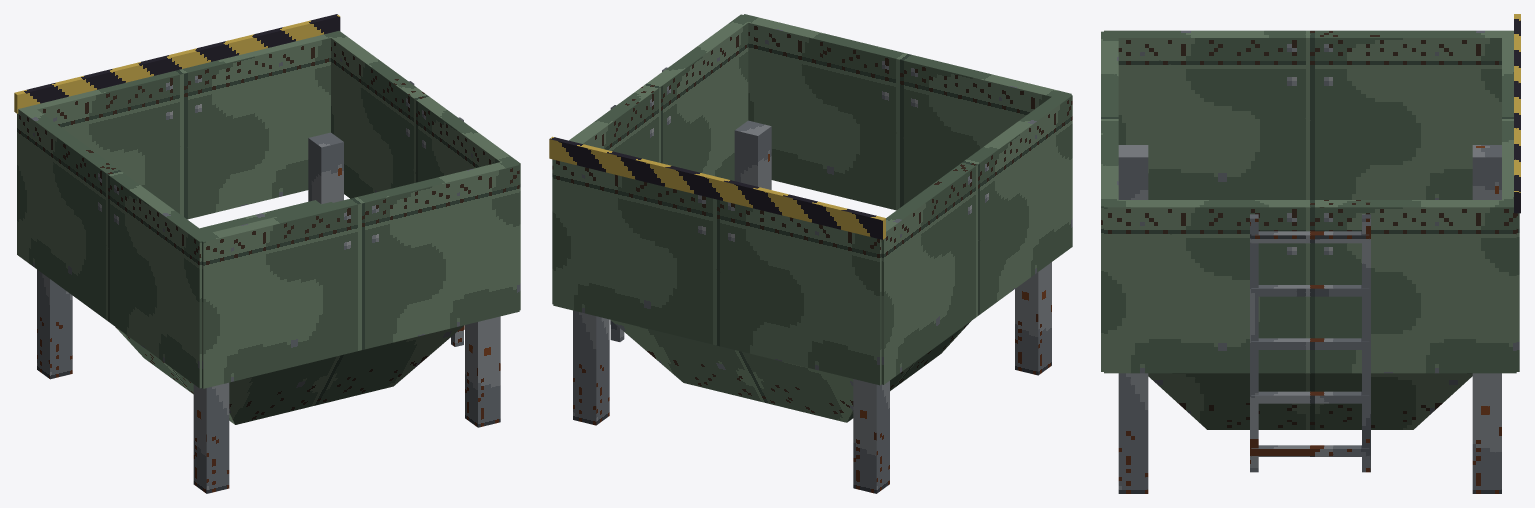
File: machinery__output_storage.glb
3 renders of one model, left to right at view 1: azimuth 30°, elevation 25°; view 2: azimuth 150°, elevation 25°; view 3: azimuth 270°, elevation 25°, orthographic. The views are drawn at different scales.
Parts seen in each view (by area): view 1: _MeshInstance3D_44, _MeshInstance3D_45, _MeshInstance3D_46; view 2: _MeshInstance3D_44, _MeshInstance3D_45, _MeshInstance3D_46; view 3: _MeshInstance3D_44, _MeshInstance3D_45, _MeshInstance3D_46.
Boxes of the visible parts, <box> form: _MeshInstance3D_44: <box>17,31,520,424</box>; _MeshInstance3D_45: <box>37,81,500,493</box>; _MeshInstance3D_46: <box>14,14,340,113</box>; _MeshInstance3D_44: <box>552,14,1072,422</box>; _MeshInstance3D_45: <box>573,67,1051,493</box>; _MeshInstance3D_46: <box>549,136,885,239</box>; _MeshInstance3D_44: <box>1101,30,1519,429</box>; _MeshInstance3D_45: <box>1118,145,1501,493</box>; _MeshInstance3D_46: <box>1514,14,1520,213</box>.
Size of the model in its own units: 1.46 by 1.16 by 1.42.
Materials: 3 (3 with a texture image).
